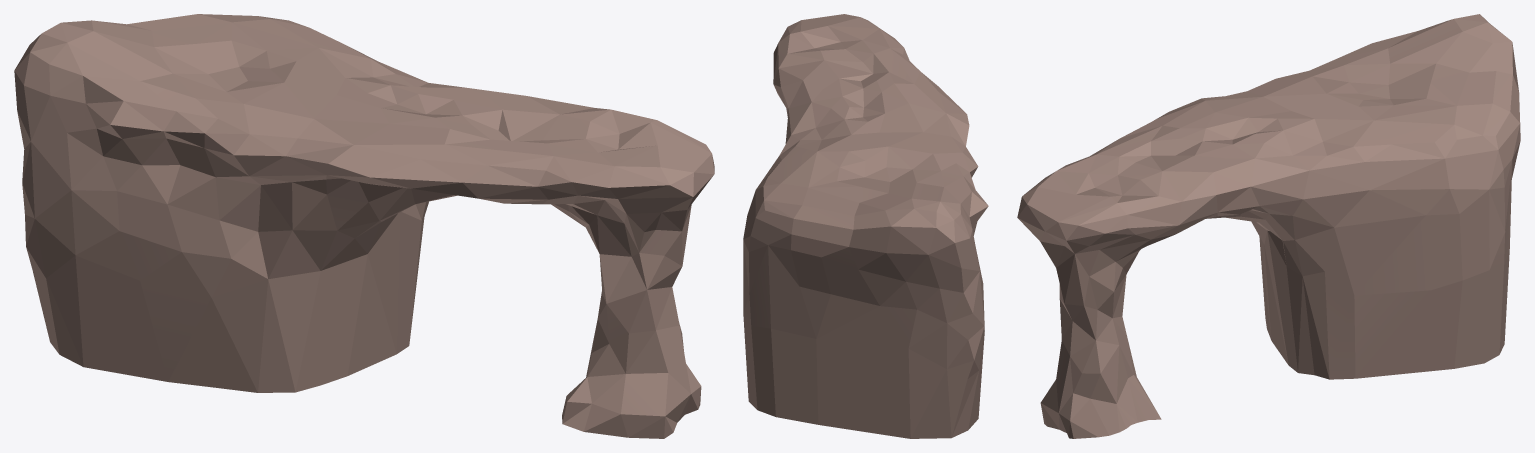
File: mountain.015.fbx
3 renders of one model, left to right at view 1: azimuth 30°, elevation 25°; view 2: azimuth 150°, elevation 25°; view 3: azimuth 270°, elevation 25°, orthographic. The views are drawn at different scales.
Parts seen in each view (by area): view 1: mountain_015; view 2: mountain_015; view 3: mountain_015.
Part boxes in pixels (left/top/right/bottom): mountain_015: left=14, top=14, right=714, bottom=438; mountain_015: left=743, top=14, right=988, bottom=438; mountain_015: left=1017, top=14, right=1520, bottom=438.
Size of the model in its own units: 14065 by 8942 by 15660.
